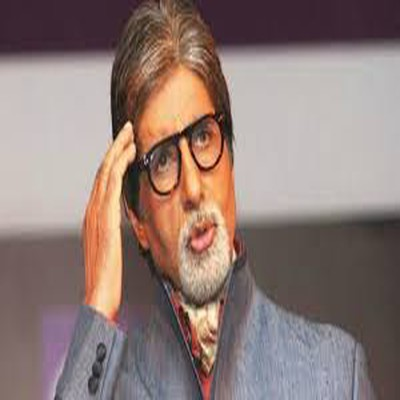eywear: (118, 112, 274, 195)
